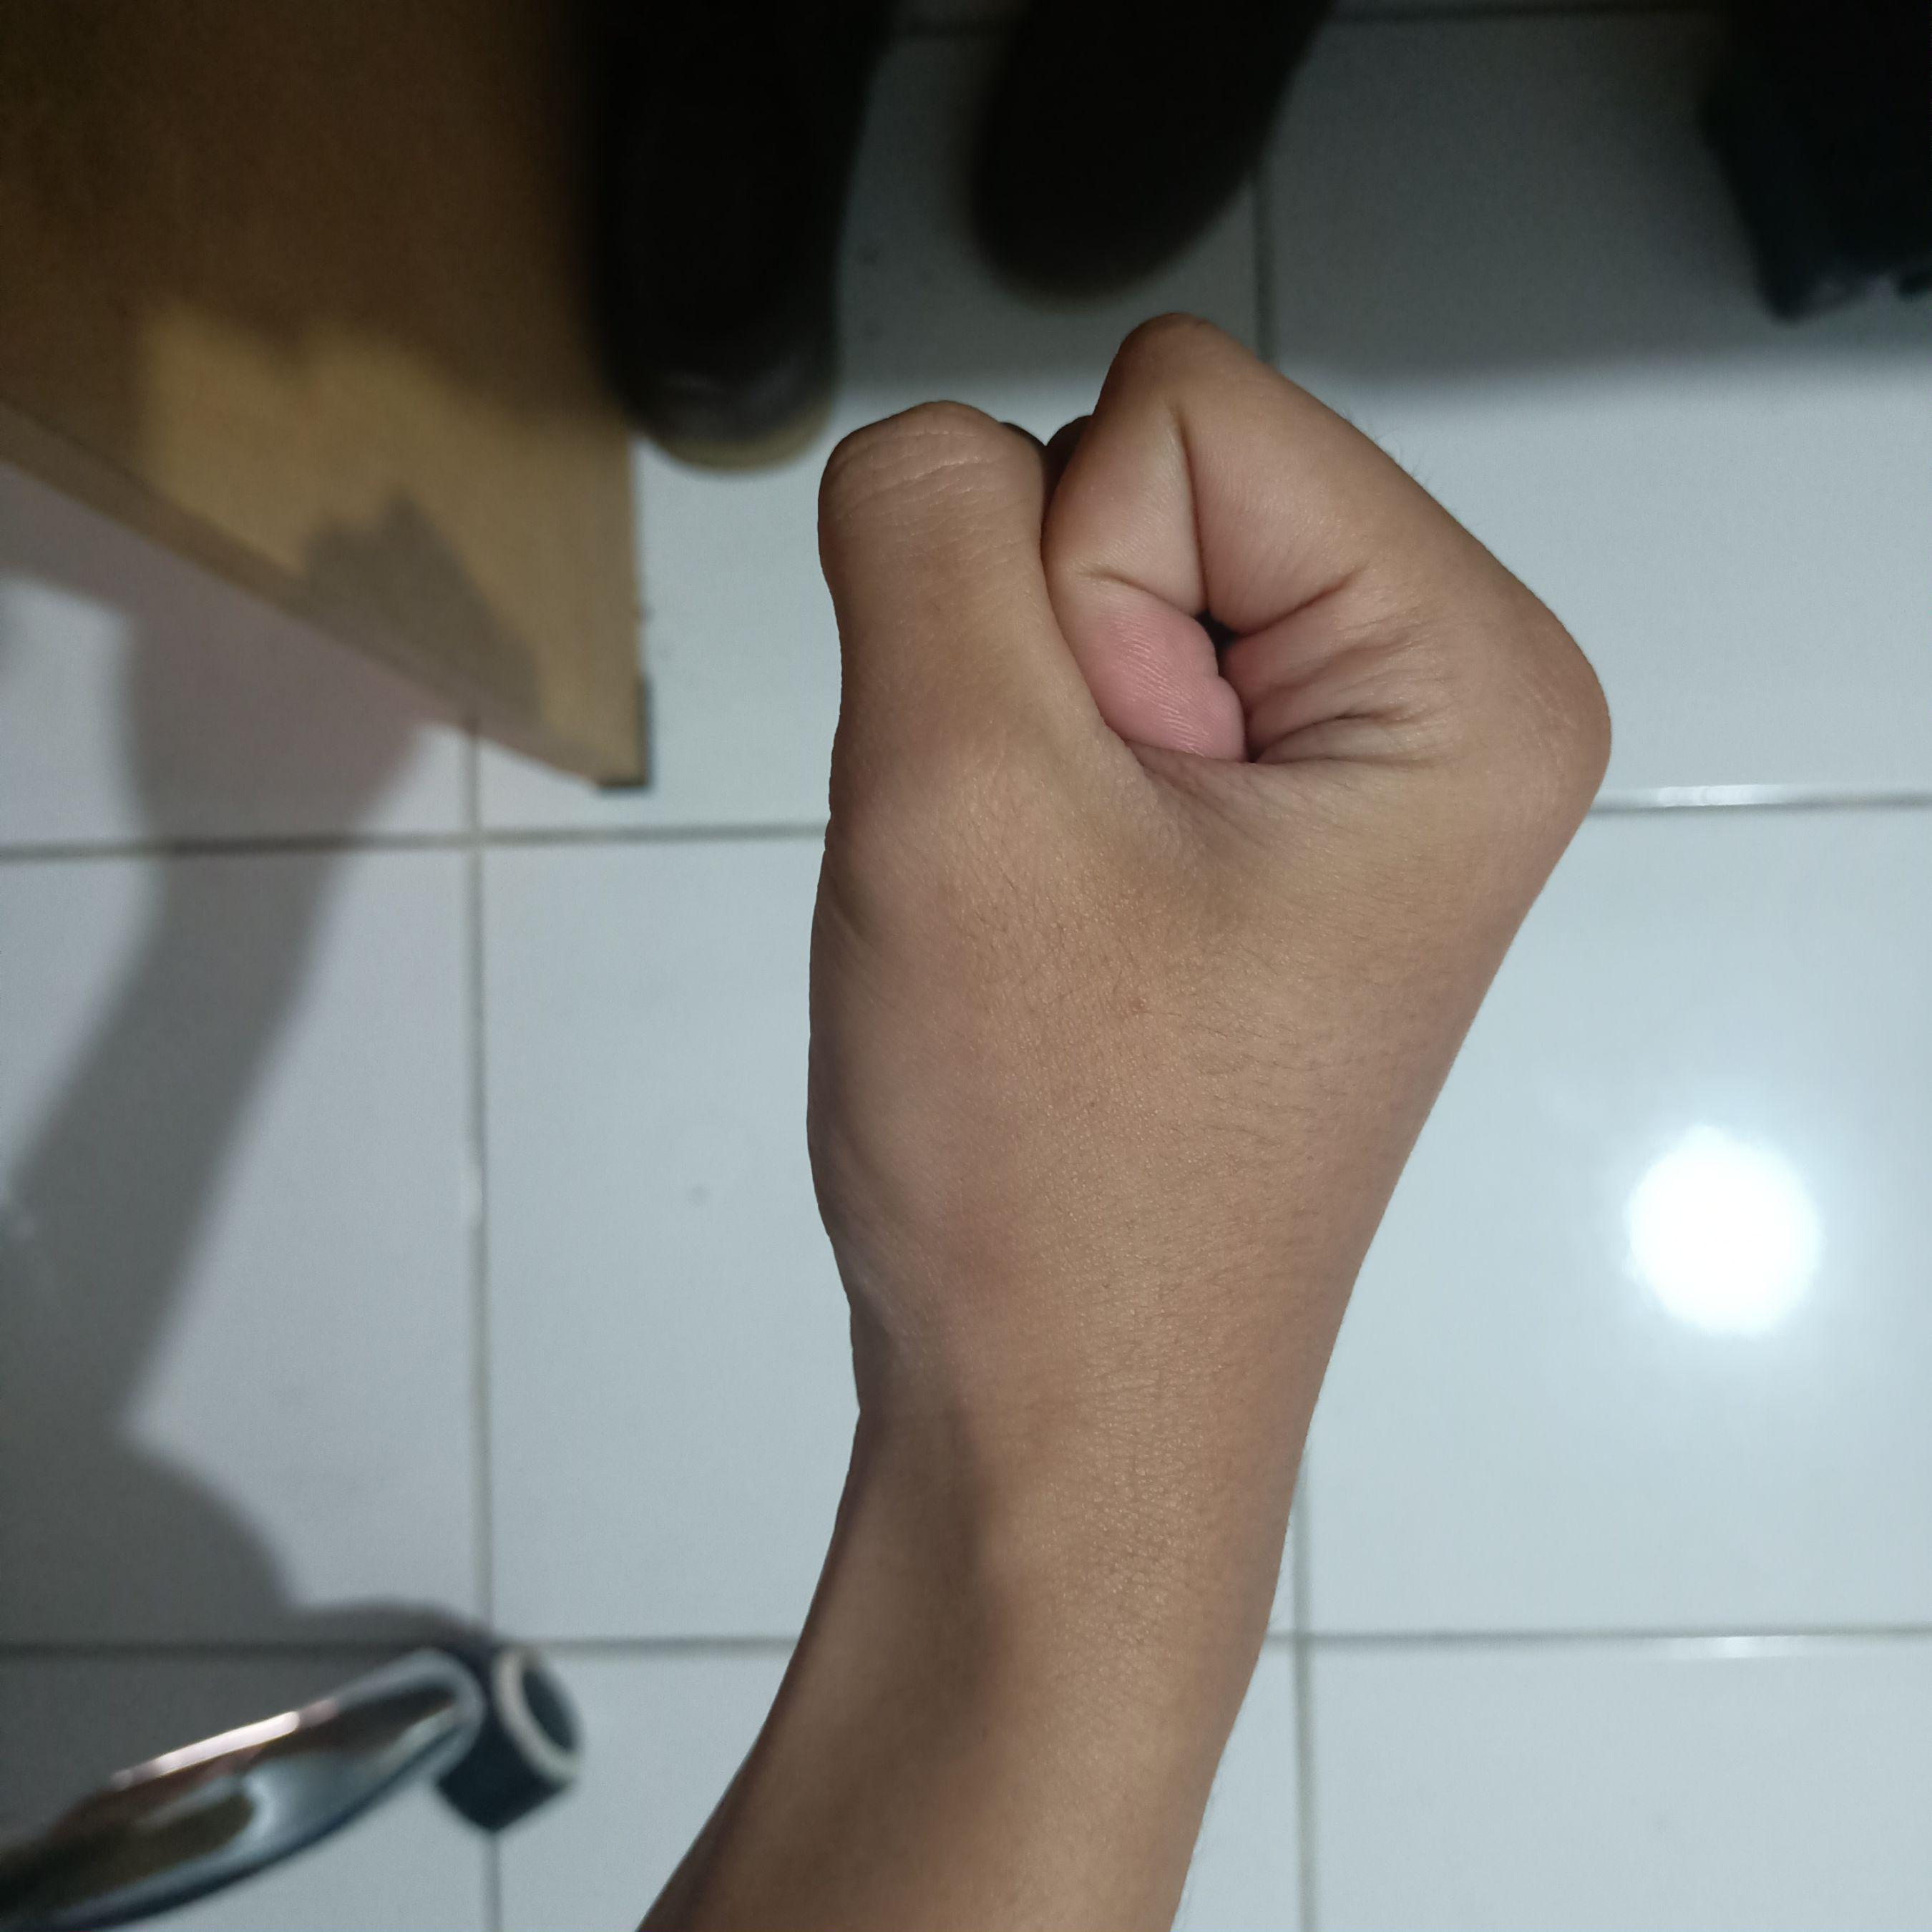rock: (794, 301, 1612, 1617)
